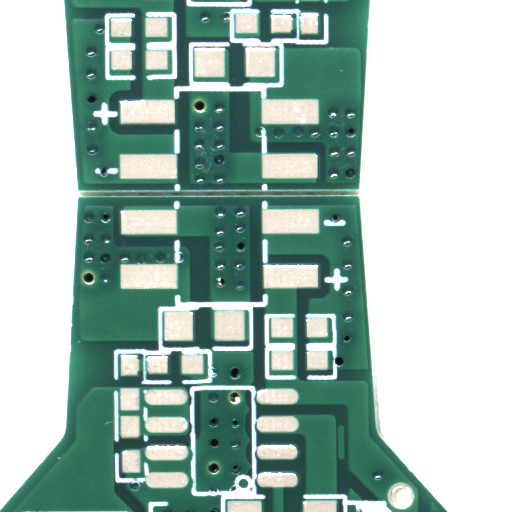Spurious_copper: (341, 443, 352, 483)
